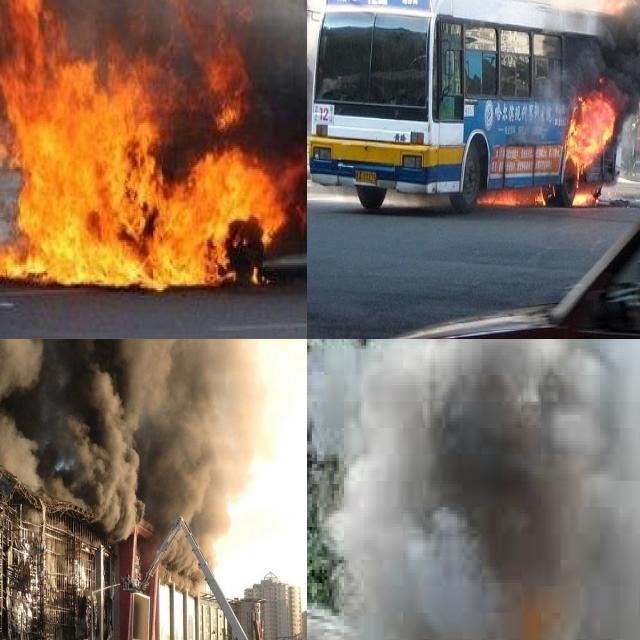fire: (0, 0, 306, 284), (559, 89, 629, 208)
smoke: (307, 339, 640, 640), (0, 339, 269, 584), (307, 0, 640, 79)
